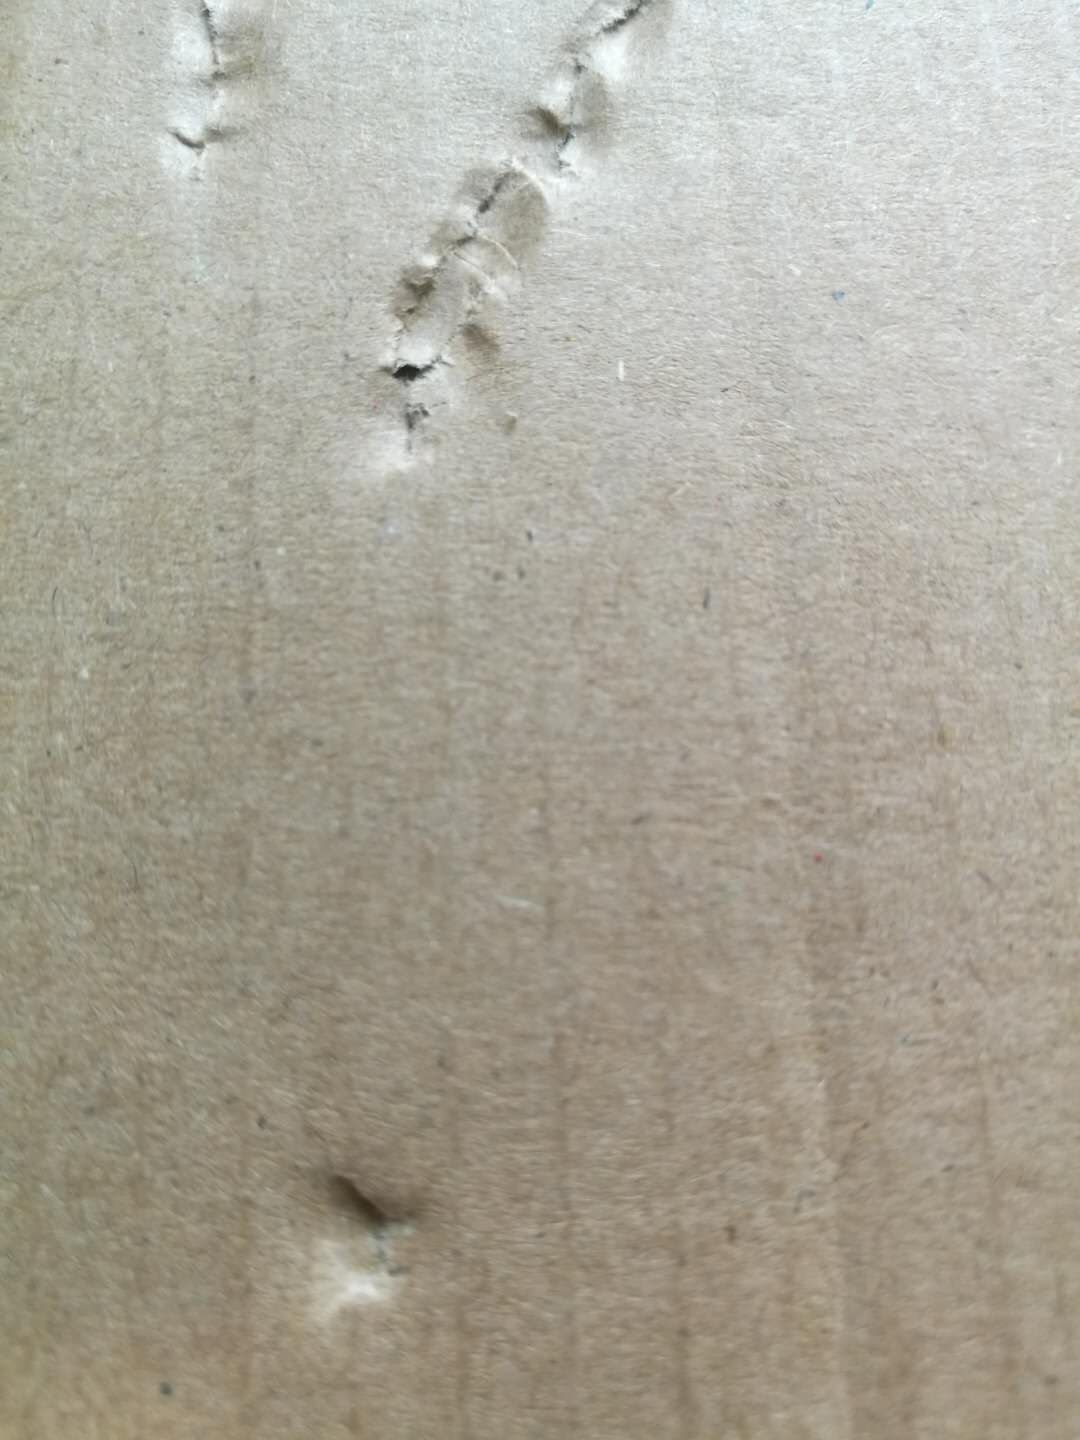defect: (332, 1, 711, 501), (143, 2, 302, 281), (282, 1138, 475, 1356)
